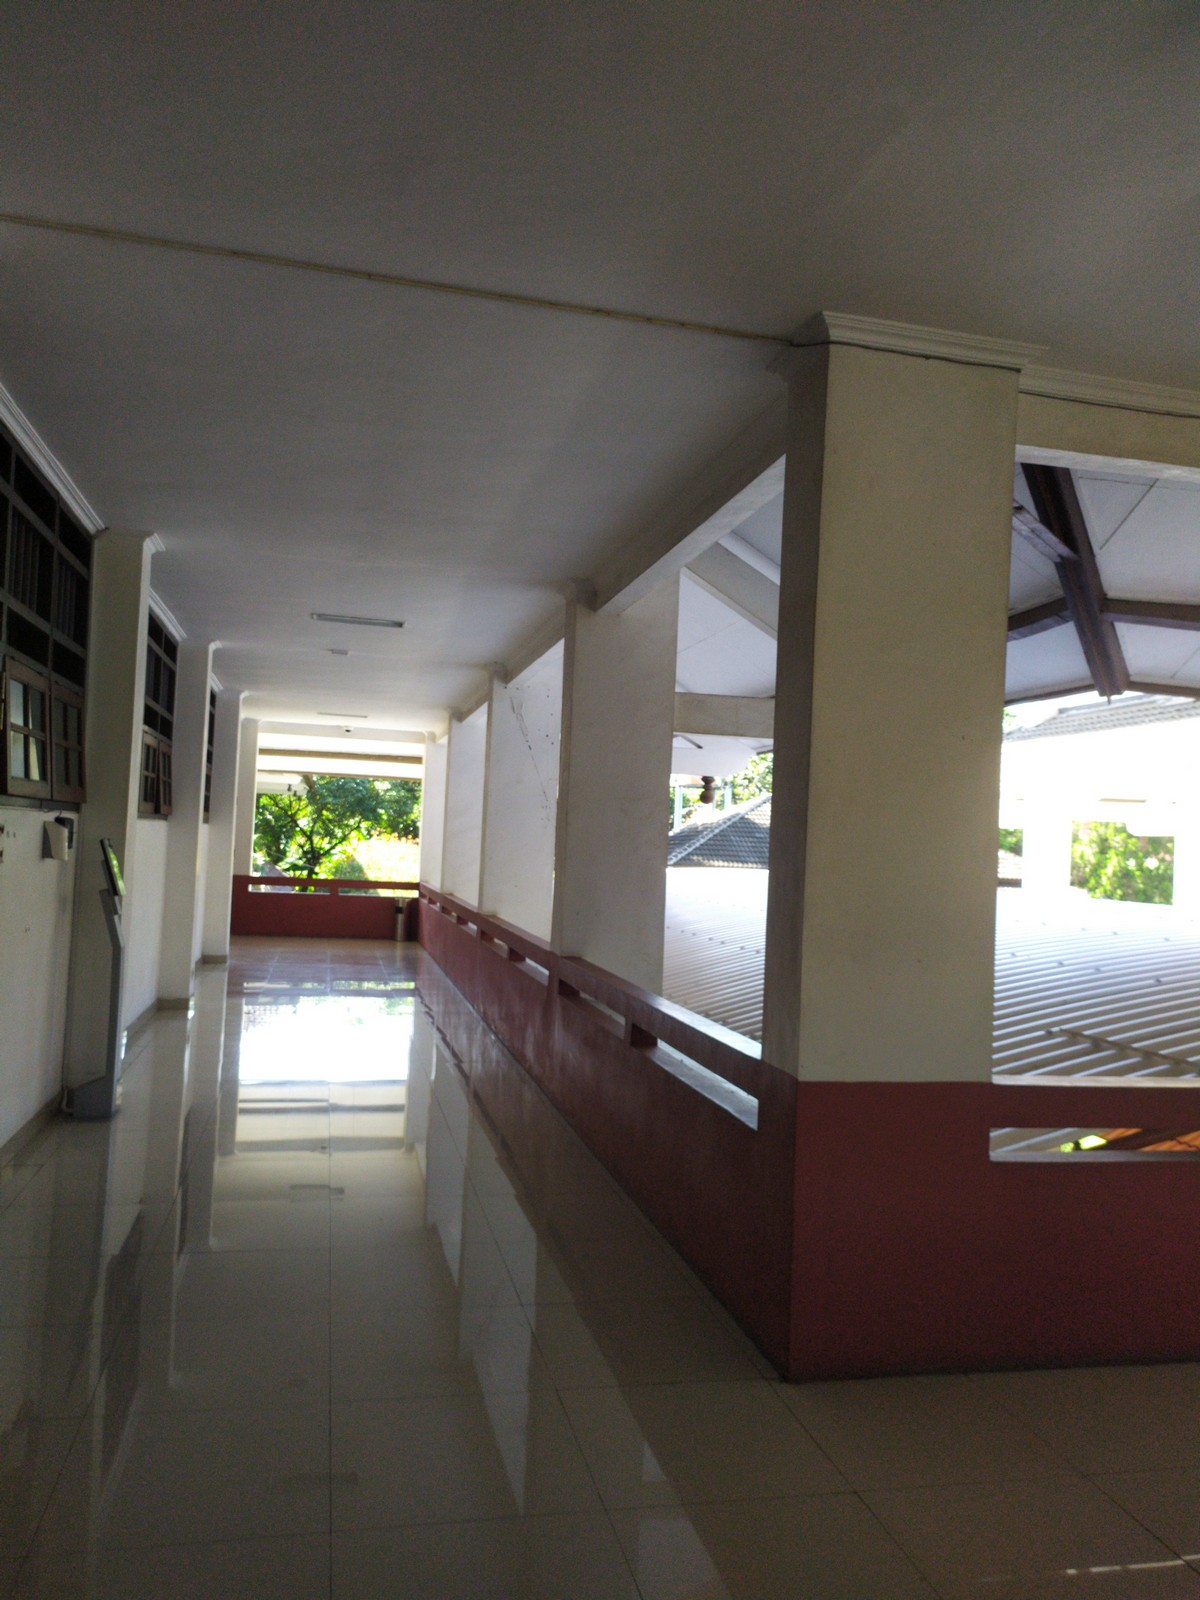concrete beam: (661, 687, 776, 745)
concrete column: (763, 360, 1022, 1133), (58, 508, 168, 1110), (545, 585, 686, 1003), (471, 674, 565, 947), (156, 619, 218, 1017)
